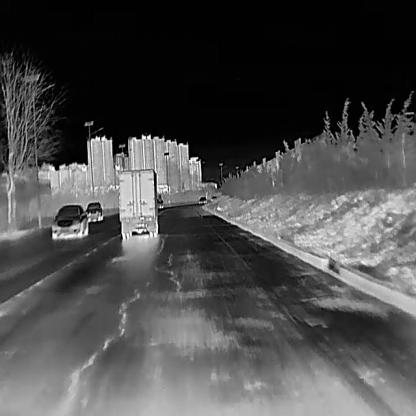car: (50, 204, 88, 239), (84, 201, 102, 221), (198, 195, 206, 203), (156, 198, 163, 206), (210, 194, 216, 201)
truck: (116, 167, 160, 238)
